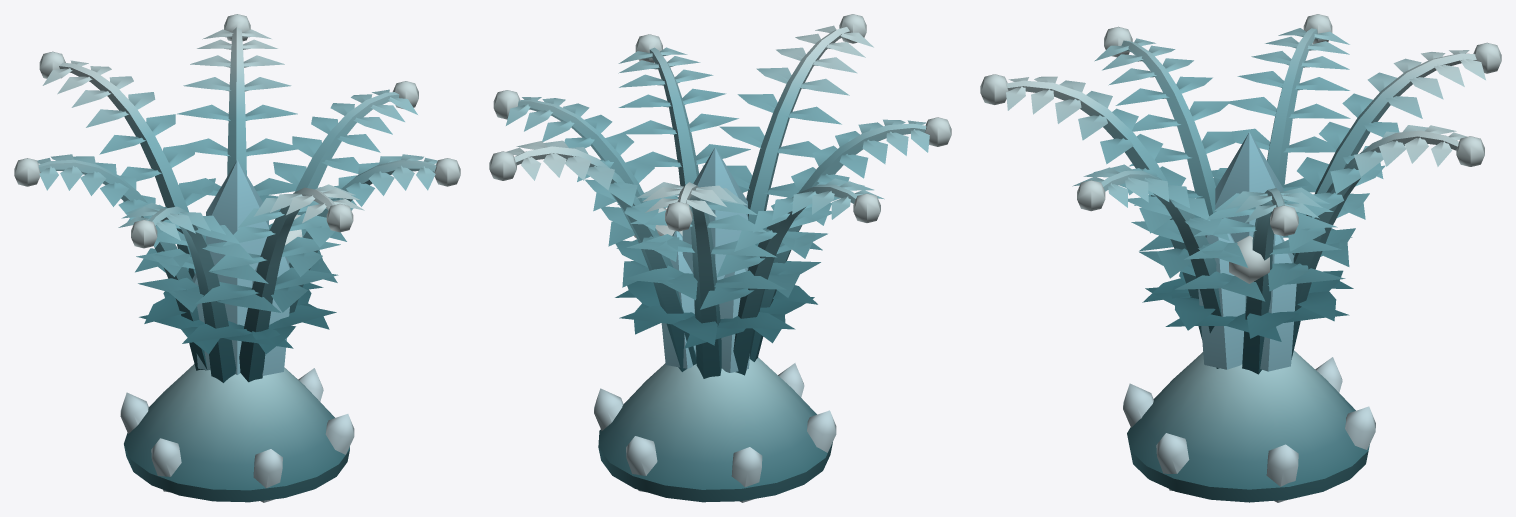
Rendered from FrostFern.fbx.
3 views of the same model, side by side, from view 1: azimuth 30°, elevation 25°; view 2: azimuth 150°, elevation 25°; view 3: azimuth 270°, elevation 25° (orthographic). The views are drawn at different scales.
Parts seen in each view (by area): view 1: Fronds, Stem, Crystal; view 2: Fronds, Stem, Crystal; view 3: Fronds, Stem, Crystal.
Part boxes in pixels (x1,y1,x2,y2): Fronds: (14,14,460,382); Stem: (120,364,354,502); Crystal: (192,160,302,375); Fronds: (489,14,951,378); Stem: (594,357,836,502); Crystal: (634,147,749,372); Fronds: (980,14,1501,374); Stem: (1123,350,1375,502); Crystal: (1198,132,1296,371).
Size of the model in its own units: 0.6468 by 0.5498 by 0.6936.
